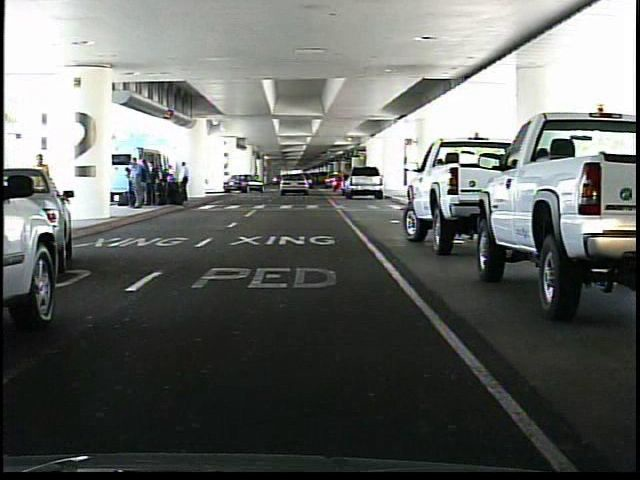person: (5, 148, 52, 237)
